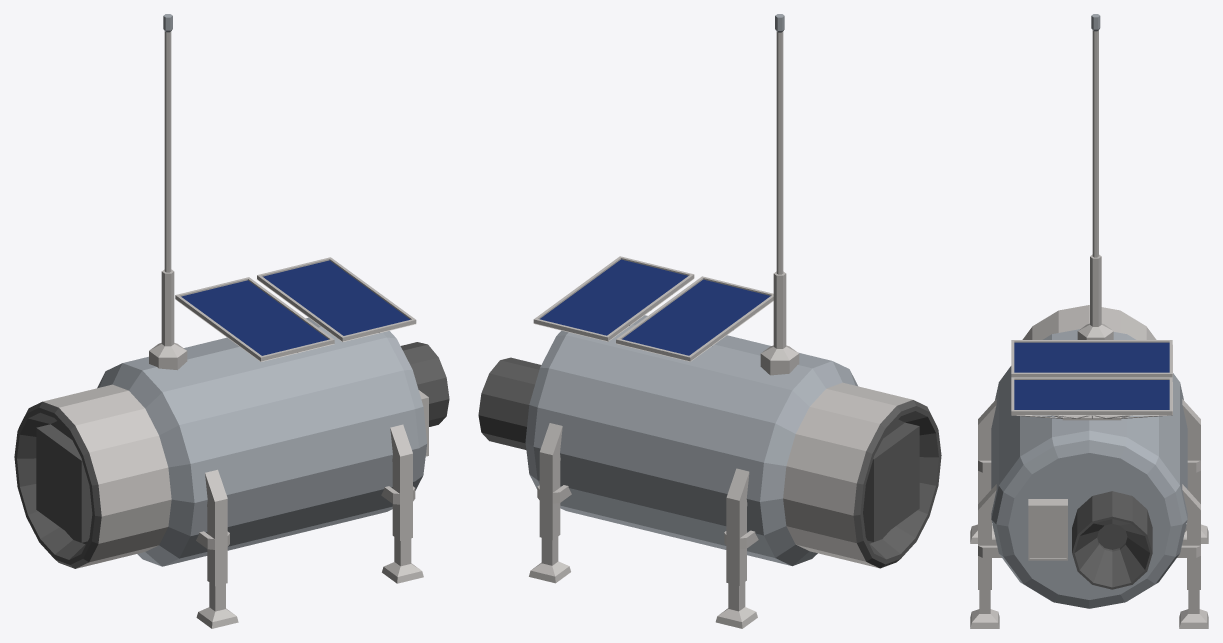
The model's file is ну тип маленький и антена у него (2).glb.
3 renders of one model, left to right at view 1: azimuth 30°, elevation 25°; view 2: azimuth 150°, elevation 25°; view 3: azimuth 270°, elevation 25°, orthographic. The views are drawn at different scales.
Visible parts, largest first — view 1: Cylinder.087; view 2: Cylinder.087; view 3: Cylinder.087.
Boxes of the visible parts, box(x1,y1,x2,y2) form: Cylinder.087: box(14, 14, 449, 628); Cylinder.087: box(478, 14, 941, 628); Cylinder.087: box(970, 14, 1208, 628).
Size of the model in its own units: 5.2 by 7.2 by 2.95.
